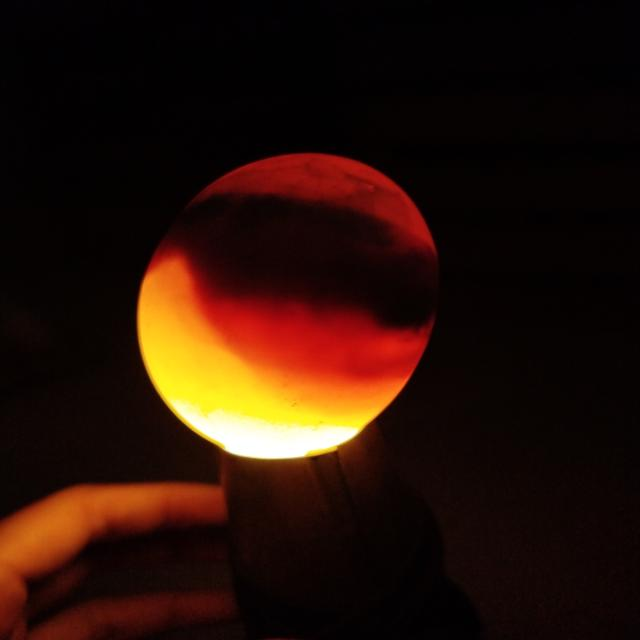Area Infectada: (152, 177, 442, 332)
